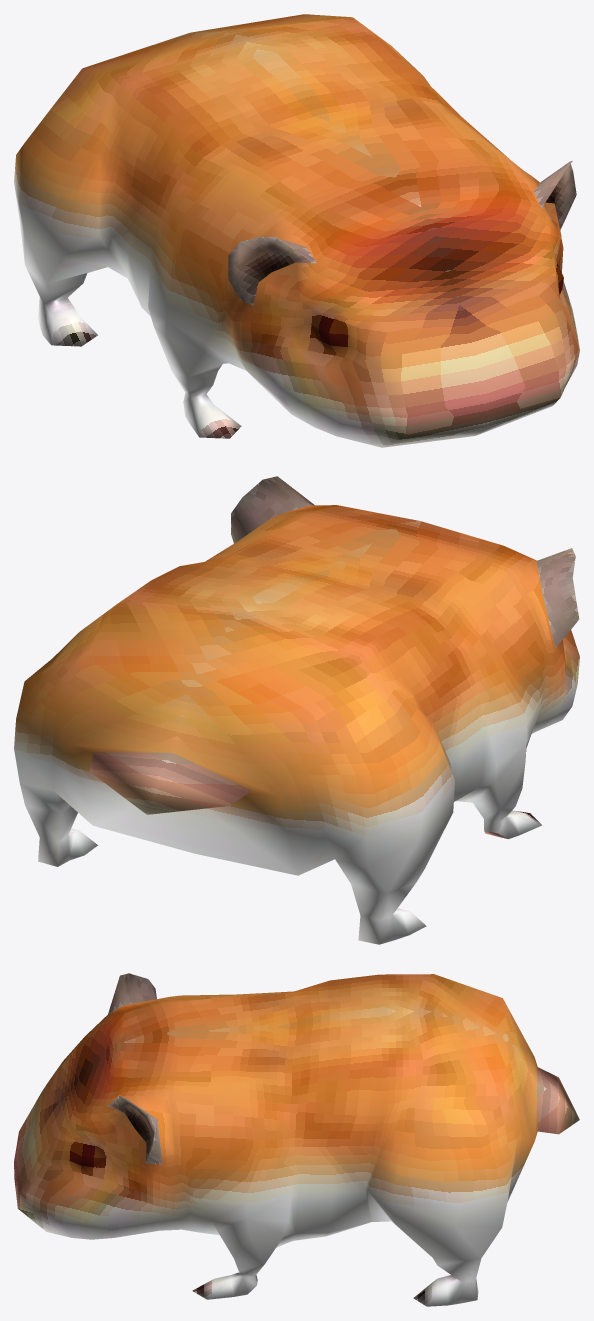
File: wide hampter.fbx
3 renders of one model, top to bottom at view 1: azimuth 30°, elevation 25°; view 2: azimuth 150°, elevation 25°; view 3: azimuth 270°, elevation 25°, orthographic. The views are drawn at different scales.
Parts seen in each view (by area): view 1: Hamster; view 2: Hamster; view 3: Hamster.
Part boxes in pixels (left/top/right/bottom): Hamster: left=14, top=14, right=579, bottom=447; Hamster: left=14, top=476, right=579, bottom=944; Hamster: left=14, top=973, right=579, bottom=1306.
Bounding box in the file's own units: 685 × 430 × 1002.
